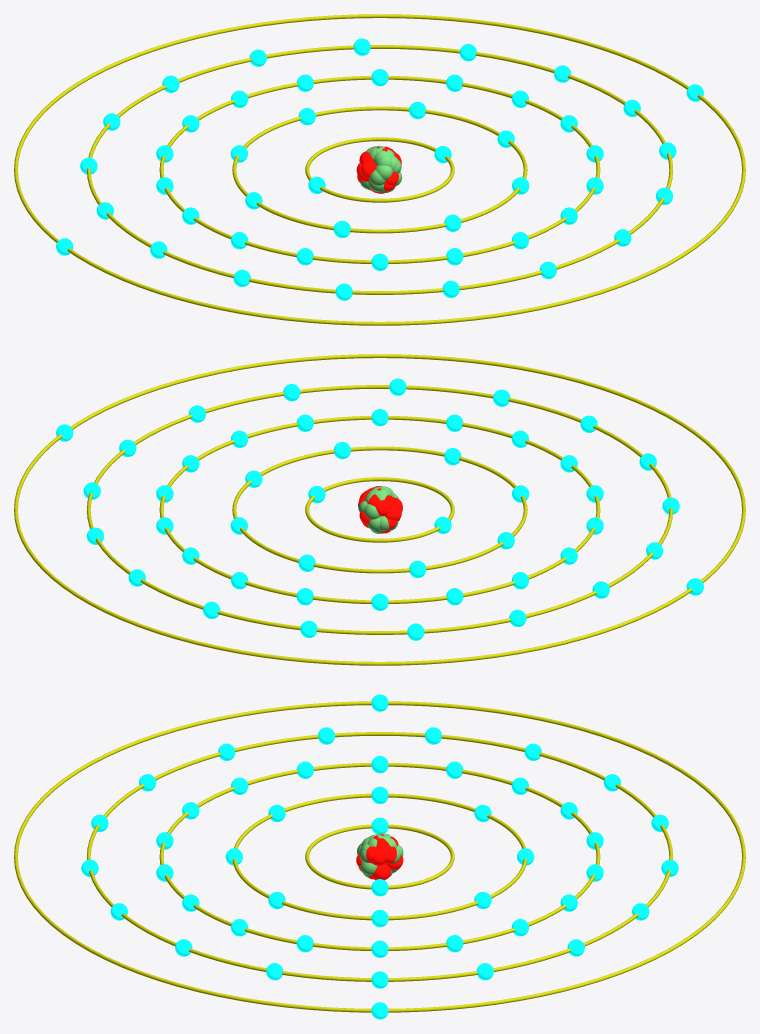
Rendered from atomo_47.glb.
3 renders of one model, top to bottom at view 1: azimuth 30°, elevation 25°; view 2: azimuth 150°, elevation 25°; view 3: azimuth 270°, elevation 25°, orthographic.
Parts seen in each view (by area): view 1: orbital_5, orbital_4, orbital_3, orbital_2, orbital_1; view 2: orbital_5, orbital_4, orbital_3, orbital_2, orbital_1; view 3: orbital_5, orbital_4, orbital_3, orbital_2, orbital_1.
Part boxes in pixels (x1,y1,x2,y2): orbital_5: (14, 14, 745, 325); orbital_4: (87, 45, 672, 294); orbital_3: (159, 76, 600, 263); orbital_2: (232, 106, 527, 233); orbital_1: (305, 137, 454, 202); orbital_5: (14, 354, 745, 665); orbital_4: (87, 385, 672, 634); orbital_3: (159, 416, 600, 603); orbital_2: (232, 446, 527, 573); orbital_1: (305, 477, 454, 542); orbital_5: (14, 701, 745, 1012); orbital_4: (87, 732, 672, 981); orbital_3: (159, 763, 600, 950); orbital_2: (232, 793, 527, 920); orbital_1: (305, 824, 454, 889).
Size of the model in its own units: 15.36 by 0.9995 by 15.08.
